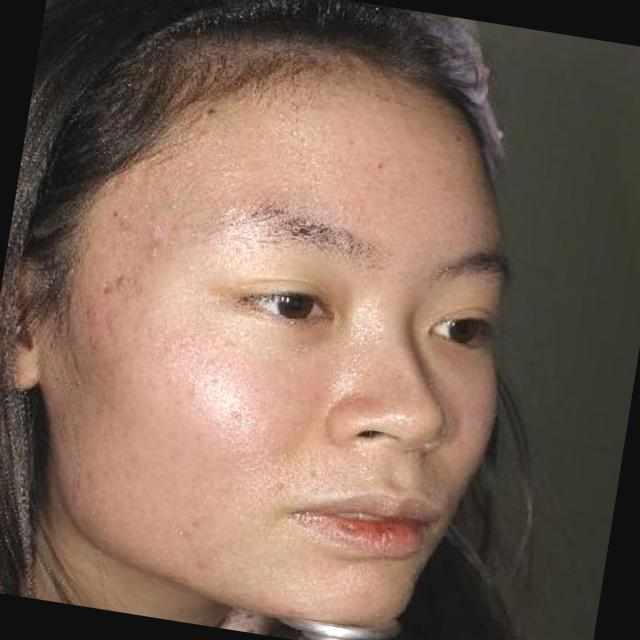darkspot: (93, 282, 116, 296), (117, 226, 130, 234)
nodules: (215, 160, 242, 177), (159, 198, 180, 216), (141, 223, 160, 240), (118, 267, 144, 275), (84, 470, 100, 481), (233, 180, 250, 190), (146, 332, 159, 345), (162, 375, 178, 384), (208, 262, 222, 272), (112, 278, 129, 286), (179, 262, 190, 272), (305, 178, 316, 186)
